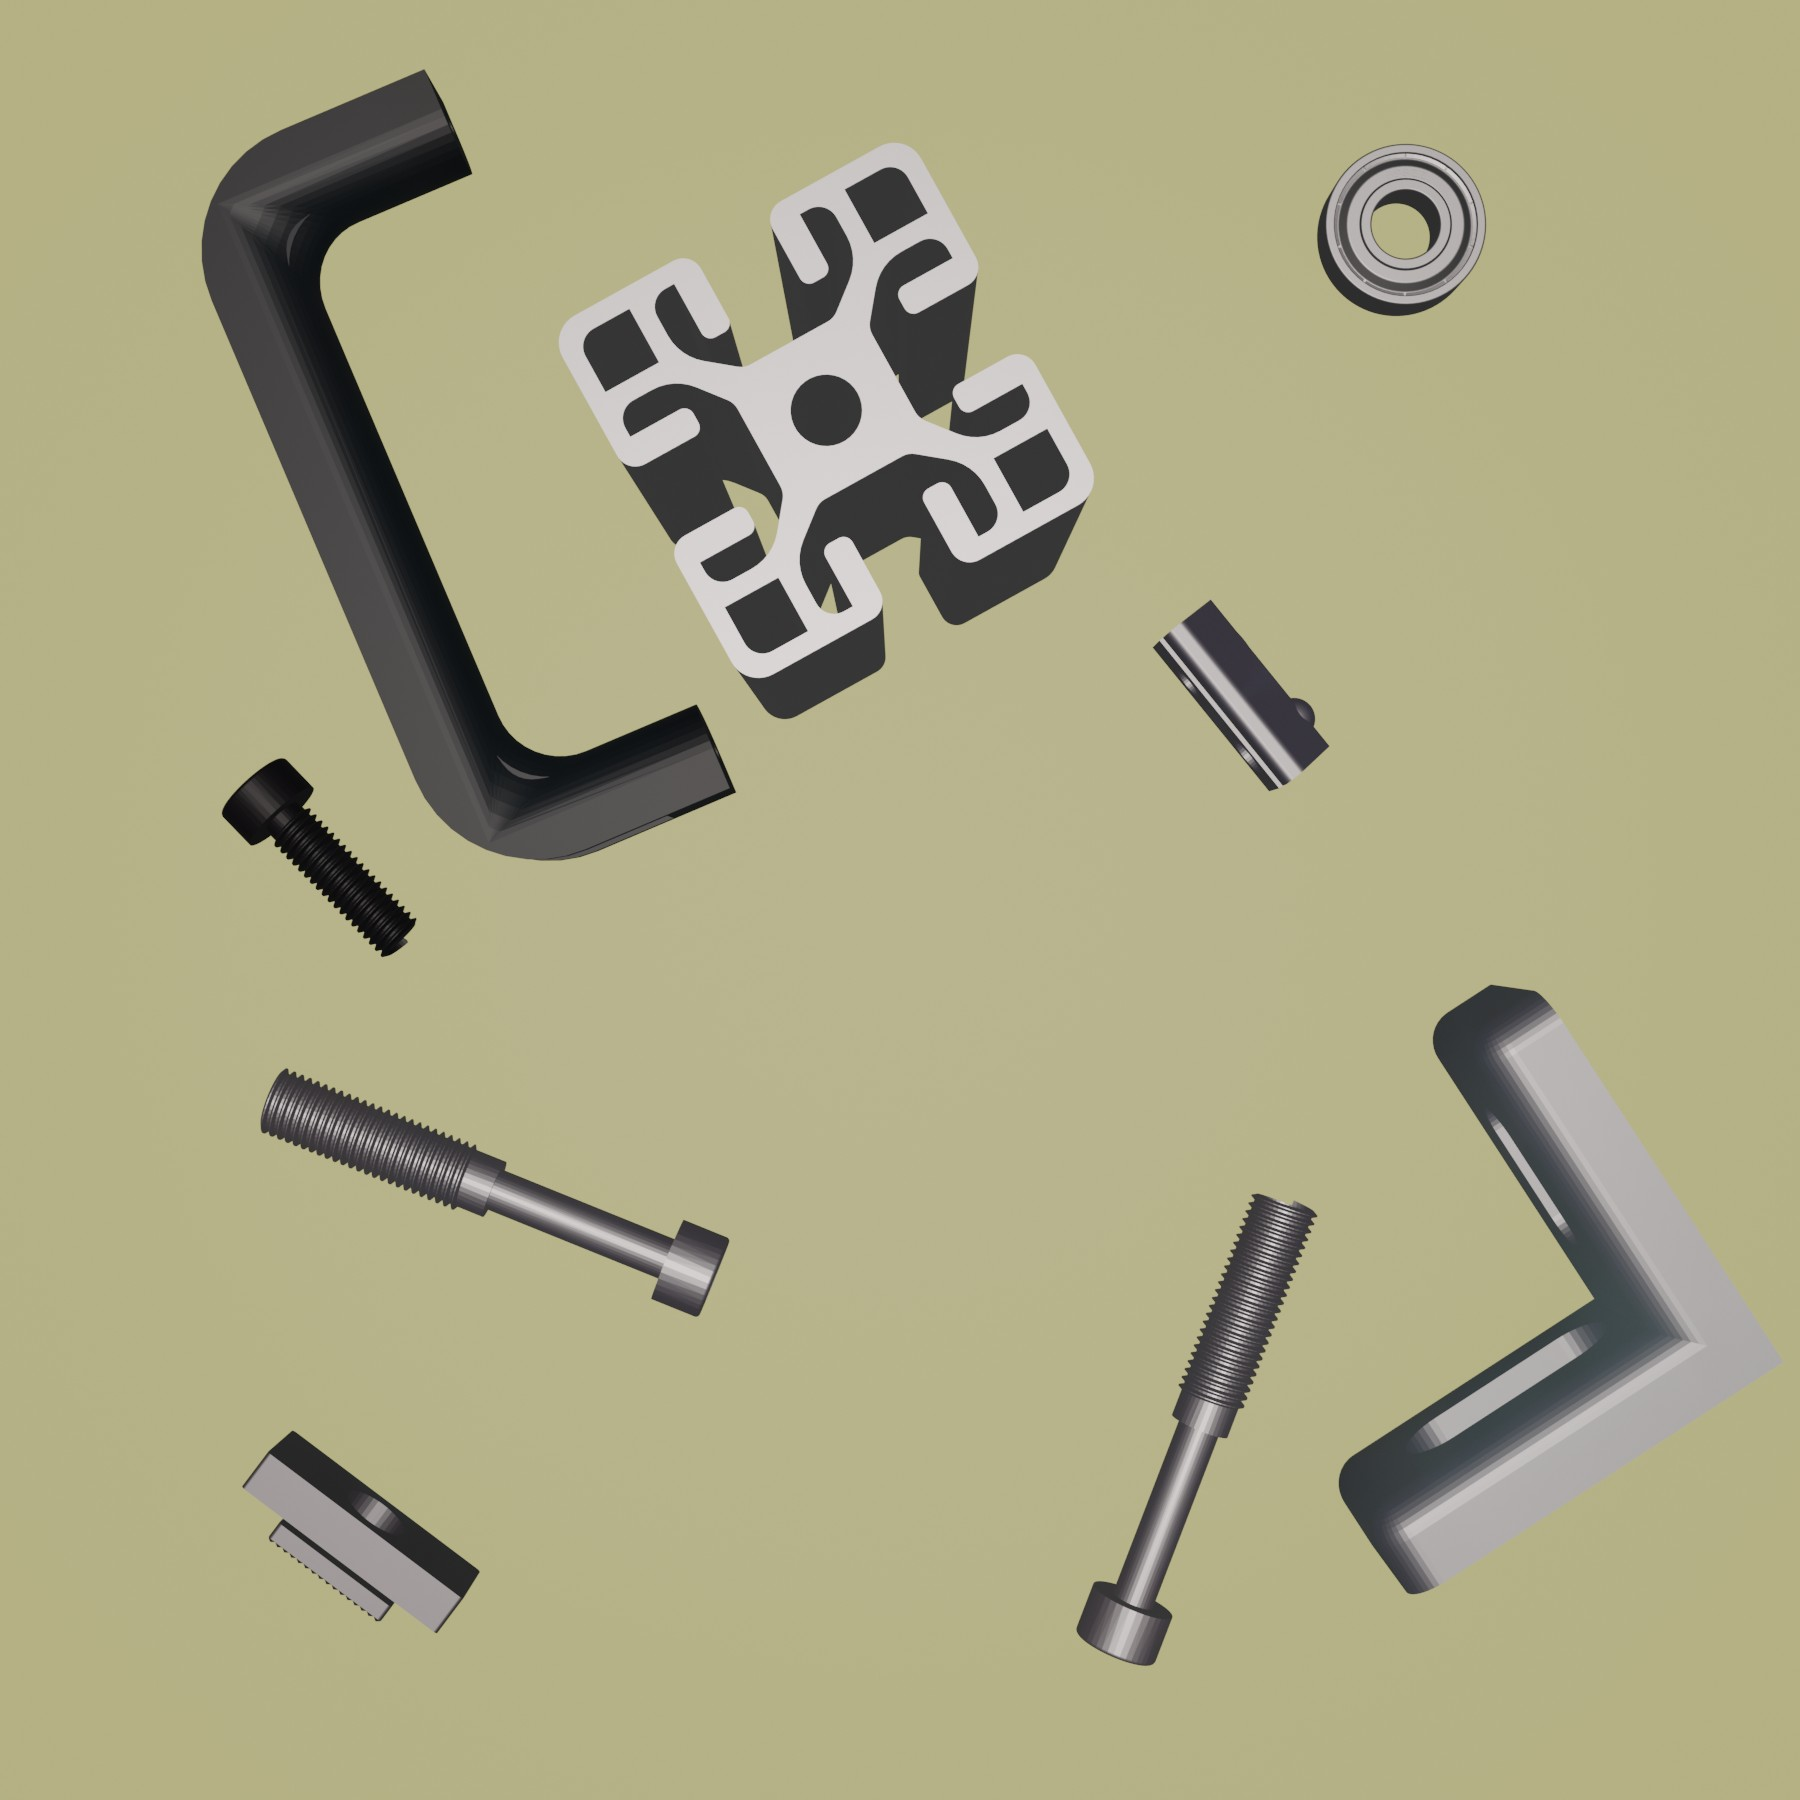Aluminium Extension: (555, 142, 1098, 722)
Ball Bearing: (1312, 138, 1490, 320)
Multiwinkel: (1337, 981, 1787, 1596)
Pull Handle: (198, 63, 740, 864)
Shoulder Socket Head Cap Screw: (255, 1066, 730, 1320), (1075, 1188, 1319, 1666)
Socket Head Cap Screw: (219, 753, 420, 959)
T Nut Square: (239, 1427, 481, 1635)
T Spring Nut: (1152, 597, 1330, 791)
